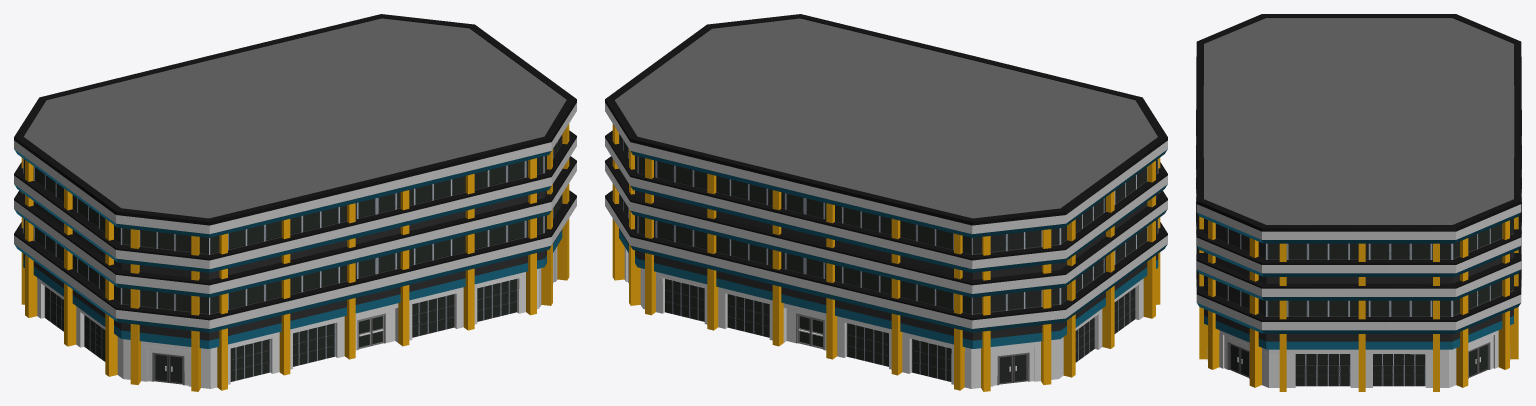
3 renders of one model, left to right at view 1: azimuth 30°, elevation 25°; view 2: azimuth 150°, elevation 25°; view 3: azimuth 270°, elevation 25°, orthographic. The views are drawn at different scales.
Visible parts, largest first — view 1: DC-02; view 2: DC-02; view 3: DC-02.
Part boxes in pixels (<box>): DC-02: <box>14,14,576,391</box>; DC-02: <box>605,14,1167,391</box>; DC-02: <box>1196,14,1521,391</box>.
Size of what is drawn, in the model's own units: 39.84 by 14.28 by 25.59.
